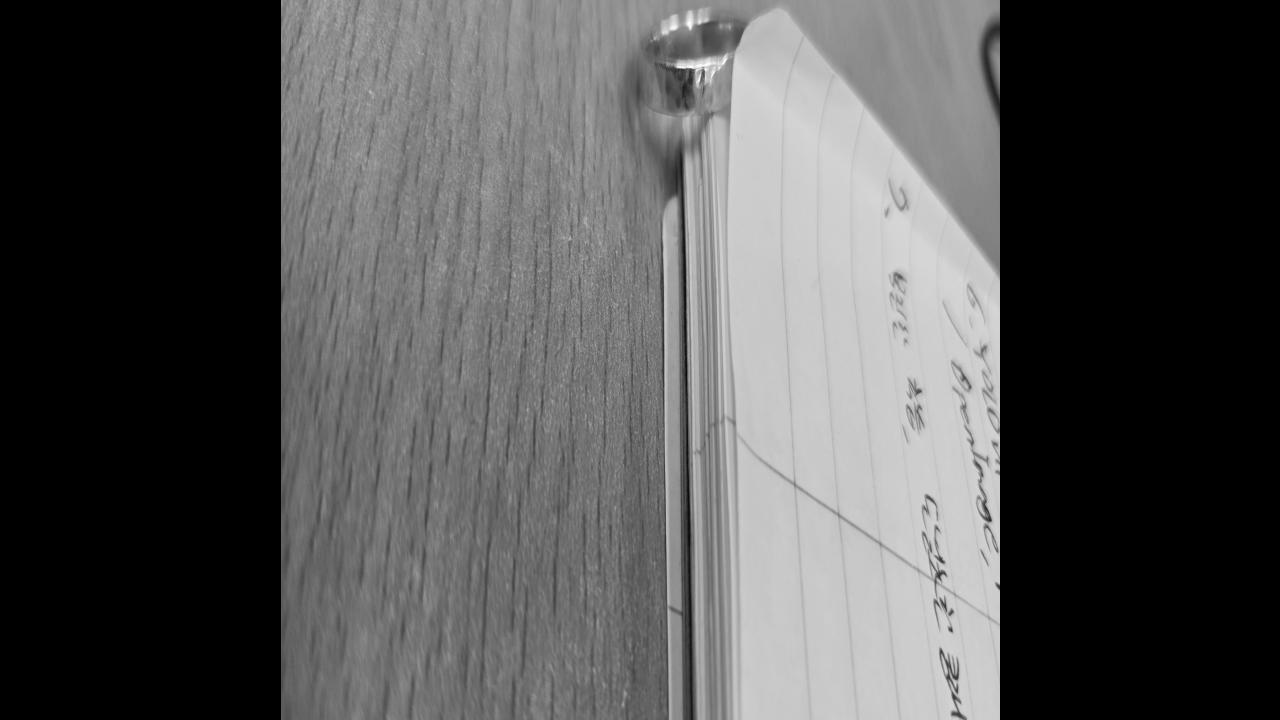ring: (640, 12, 751, 122)
